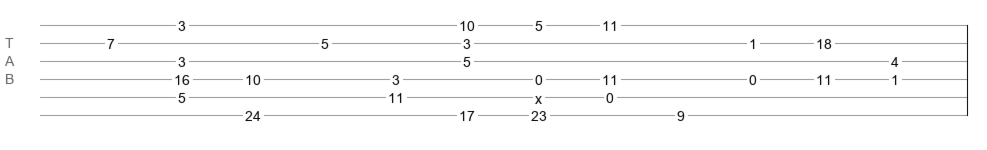0: (535, 72, 543, 82), (606, 90, 614, 100), (749, 72, 757, 82)
1: (749, 36, 757, 46), (891, 72, 899, 82)
10: (245, 72, 261, 82), (459, 18, 475, 28)
11: (388, 90, 404, 100), (602, 72, 618, 82), (602, 18, 618, 28), (816, 72, 832, 82)
16: (174, 72, 190, 82)
17: (459, 108, 475, 118)
18: (816, 36, 832, 46)
23: (531, 108, 547, 118)
24: (245, 108, 261, 118)
3: (178, 54, 186, 64), (178, 18, 186, 28), (392, 72, 400, 82), (463, 36, 471, 46)
4: (891, 54, 899, 64)
5: (178, 90, 186, 100), (321, 36, 329, 46), (463, 54, 471, 64), (535, 18, 543, 28)
7: (107, 36, 115, 46)
9: (677, 108, 685, 118)
x: (535, 91, 542, 99)
